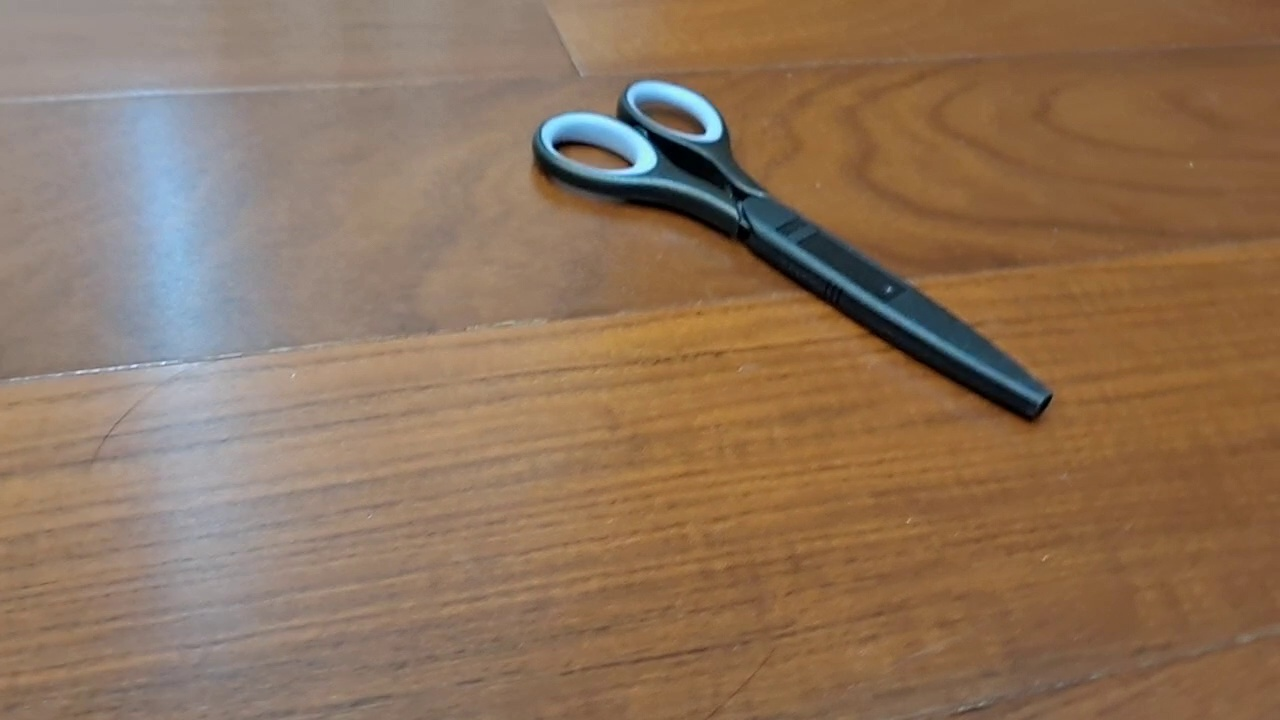scissors: (531, 77, 1055, 424)
